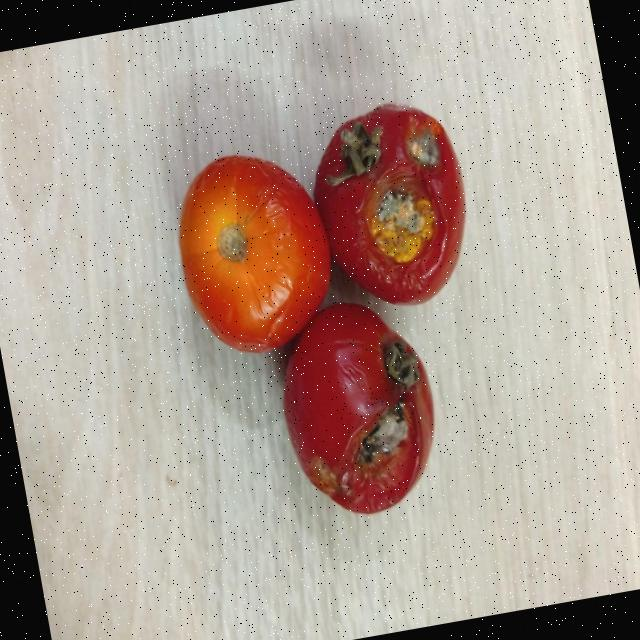Rotten: (266, 289, 450, 528), (300, 91, 482, 320)
